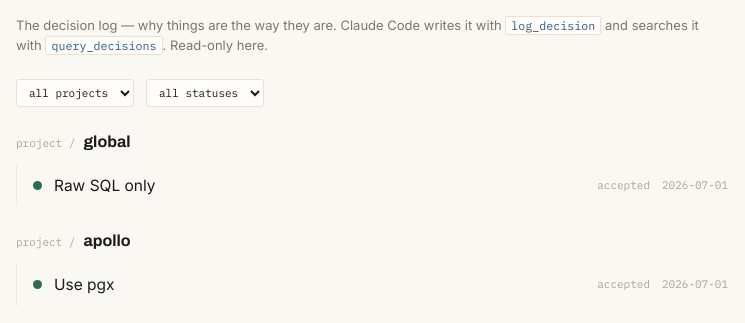
Test: DecisionsView › filters by project
The width and height of the screenshot is (745, 323).
Select "apollo" in the dropdown with test id "project-filter" at point(75, 93), box left=16, top=79, right=134, bottom=107
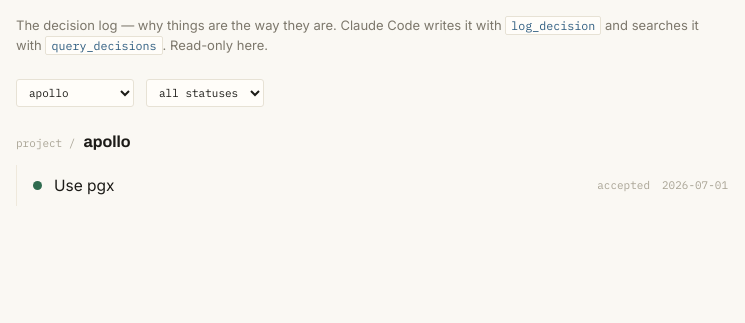
Expected: the text "Use pgx" is shown, left=54, top=176, right=115, bottom=195
Result: the text "Raw SQL only" is gone
